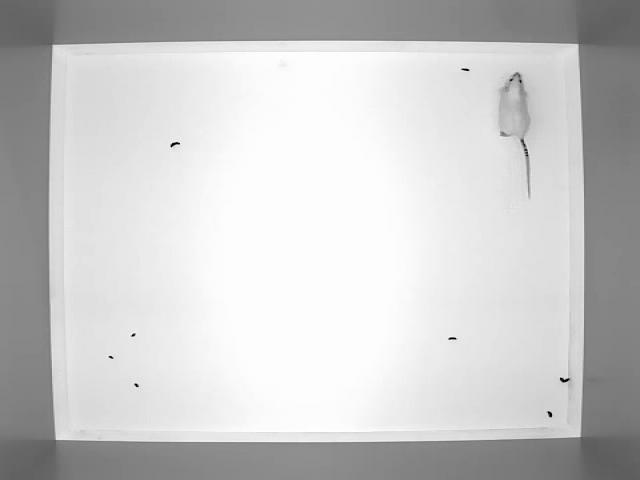Tikus: (495, 68, 534, 198)
